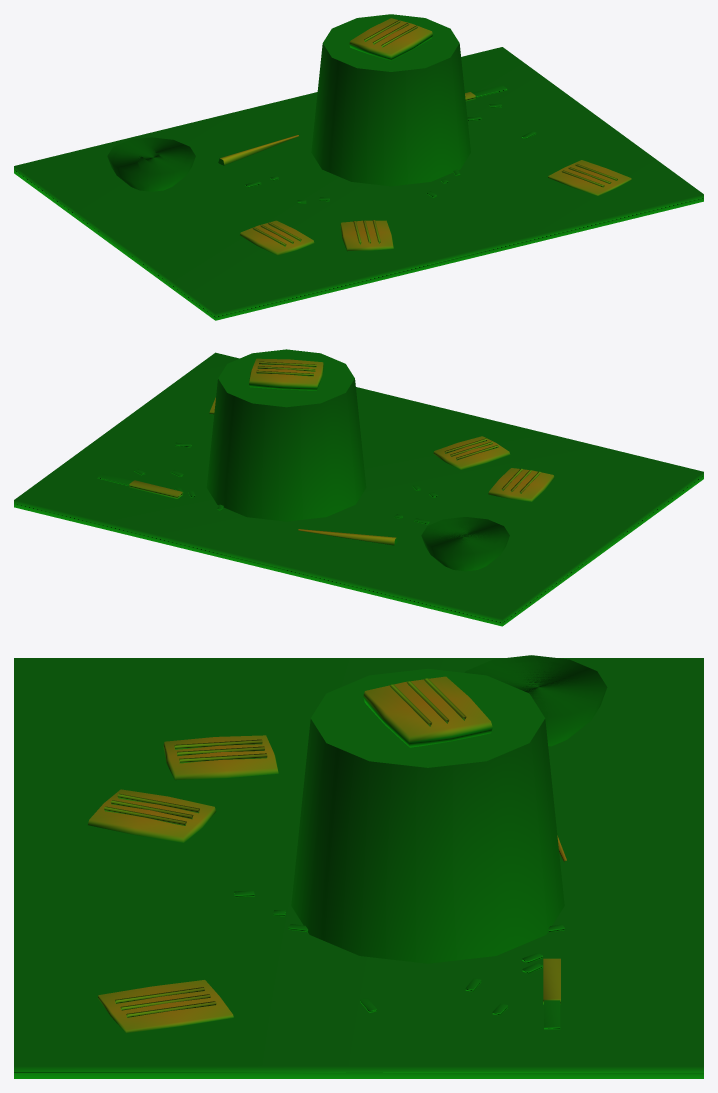
Rendered from shellcarver_mat.glb.
3 renders of one model, top to bottom at view 1: azimuth 30°, elevation 25°; view 2: azimuth 150°, elevation 25°; view 3: azimuth 270°, elevation 25°, orthographic. The views are drawn at different scales.
Visible parts, largest first — view 1: shellcarver_mat; view 2: shellcarver_mat; view 3: shellcarver_mat.
Part boxes in pixels (x1,y1,x2,y2): shellcarver_mat: (14,14,703,320); shellcarver_mat: (14,349,703,626); shellcarver_mat: (14,655,703,1078).
Size of what is drawn, in the model's own units: 1.4 by 0.3478 by 1.
